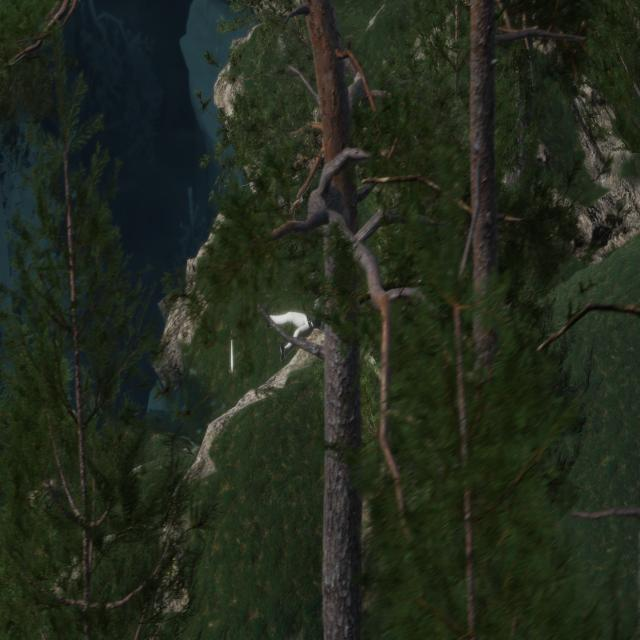Human: (253, 274, 322, 355)
